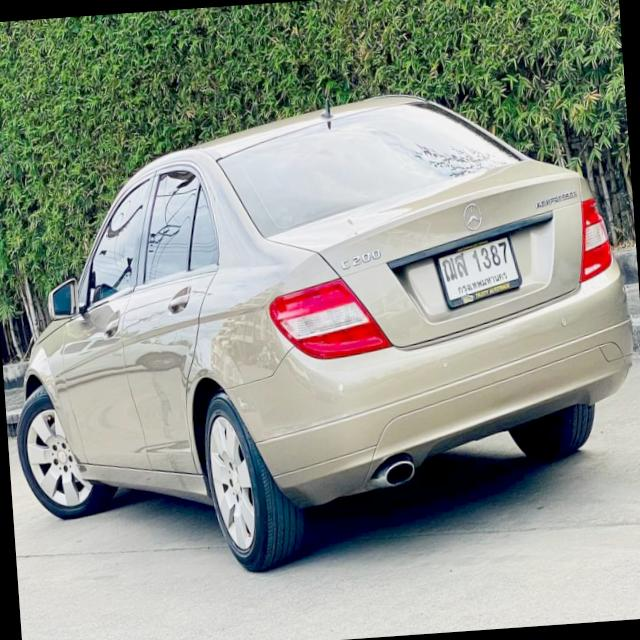license_plate: (430, 228, 525, 314)
